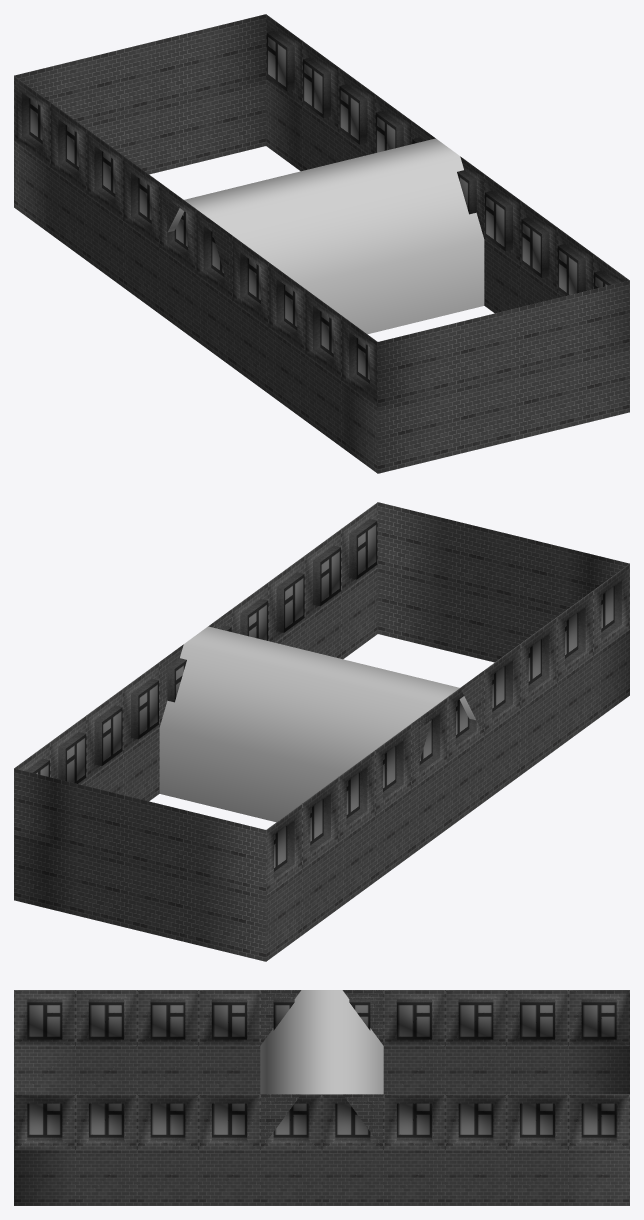
The model's file is House_Tower.fbx.
3 renders of one model, top to bottom at view 1: azimuth 30°, elevation 25°; view 2: azimuth 150°, elevation 25°; view 3: azimuth 270°, elevation 25°, orthographic. The views are drawn at different scales.
Parts seen in each view (by area): view 1: Wall 0.2, Wall 0.1, Tunel, Wall 0.2.2, Wall 0; view 2: Wall 0.2, Wall 0.1, Tunel, Wall 0, Wall 0.2.2; view 3: Wall 0.1, Wall 0.2, Tunel, Wall 0.2.2, Wall 0.
Part boxes in pixels (x1,y1,x2,y2): Wall 0.2: [14, 14, 629, 407]; Wall 0.1: [14, 80, 629, 473]; Tunel: [168, 138, 484, 334]; Wall 0.2.2: [159, 121, 484, 300]; Wall 0: [159, 248, 232, 366]; Wall 0.2: [14, 502, 629, 895]; Wall 0.1: [14, 568, 629, 961]; Tunel: [159, 626, 475, 822]; Wall 0: [411, 736, 484, 854]; Wall 0.2.2: [159, 609, 484, 788]; Wall 0.1: [14, 990, 629, 1205]; Wall 0.2: [14, 990, 629, 1149]; Tunel: [260, 990, 383, 1094]; Wall 0.2.2: [260, 990, 383, 1149]; Wall 0: [260, 1150, 383, 1205].
Bounding box in the file's own units: 1200 × 600 × 3000.
